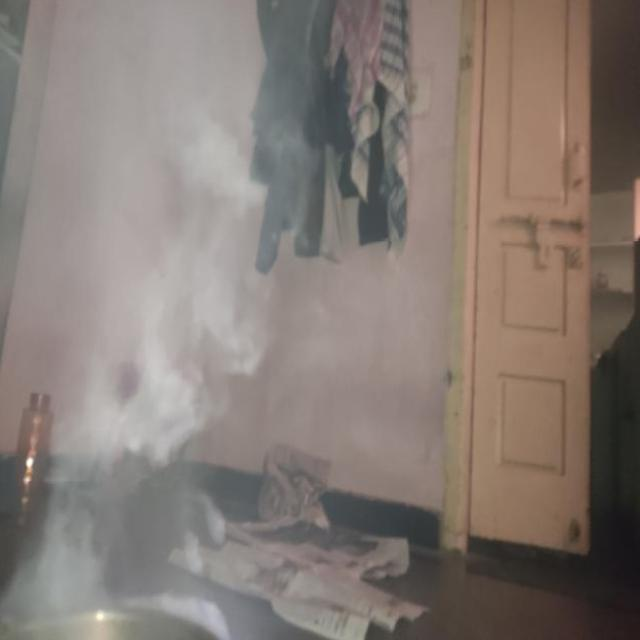fire: (8, 130, 278, 592)
